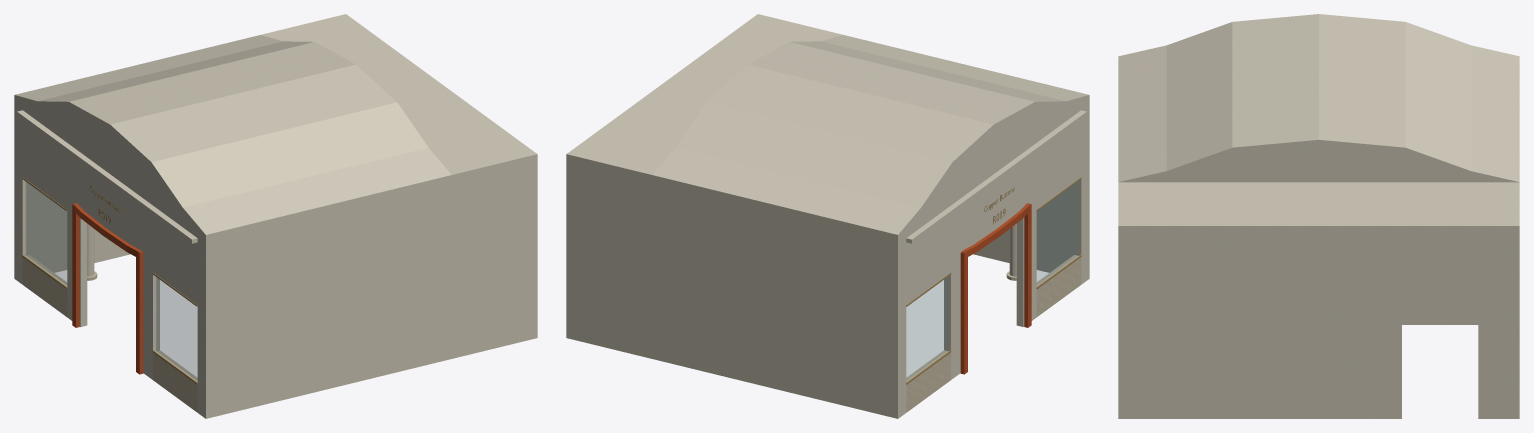
File: SHOP_D09_P72_A210__shell.glb
3 views of the same model, side by side, from view 1: azimuth 30°, elevation 25°; view 2: azimuth 150°, elevation 25°; view 3: azimuth 270°, elevation 25° (orthographic). The views are drawn at different scales.
Parts seen in each view (by area): view 1: SHOP_D09_P72_A210__shell__ivory_enamel, SHOP_D09_P72_A210__shell__shop_glass, SHOP_D09_P72_A210__shell__warm_stone, SHOP_D09_P72_A210__shell__retail_terracotta_enamel, SHOP_D09_P72_A210__shell__champagne_metal; view 2: SHOP_D09_P72_A210__shell__ivory_enamel, SHOP_D09_P72_A210__shell__shop_glass, SHOP_D09_P72_A210__shell__warm_stone, SHOP_D09_P72_A210__shell__retail_terracotta_enamel, SHOP_D09_P72_A210__shell__champagne_metal; view 3: SHOP_D09_P72_A210__shell__ivory_enamel.
Boxes of the visible parts, bbox=[...] form: SHOP_D09_P72_A210__shell__ivory_enamel: bbox=[14, 14, 537, 418]; SHOP_D09_P72_A210__shell__shop_glass: bbox=[26, 182, 197, 380]; SHOP_D09_P72_A210__shell__warm_stone: bbox=[22, 255, 197, 412]; SHOP_D09_P72_A210__shell__retail_terracotta_enamel: bbox=[72, 203, 143, 374]; SHOP_D09_P72_A210__shell__champagne_metal: bbox=[22, 177, 197, 384]; SHOP_D09_P72_A210__shell__ivory_enamel: bbox=[566, 14, 1089, 418]; SHOP_D09_P72_A210__shell__shop_glass: bbox=[906, 182, 1077, 380]; SHOP_D09_P72_A210__shell__warm_stone: bbox=[906, 255, 1081, 412]; SHOP_D09_P72_A210__shell__retail_terracotta_enamel: bbox=[960, 203, 1031, 374]; SHOP_D09_P72_A210__shell__champagne_metal: bbox=[906, 177, 1081, 384]; SHOP_D09_P72_A210__shell__ivory_enamel: bbox=[1118, 14, 1519, 418].
Bounding box in the file's own units: 11.86 × 7.5 × 11.6.
6 materials, 4 textured.
